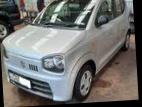car: (0, 0, 134, 105)
